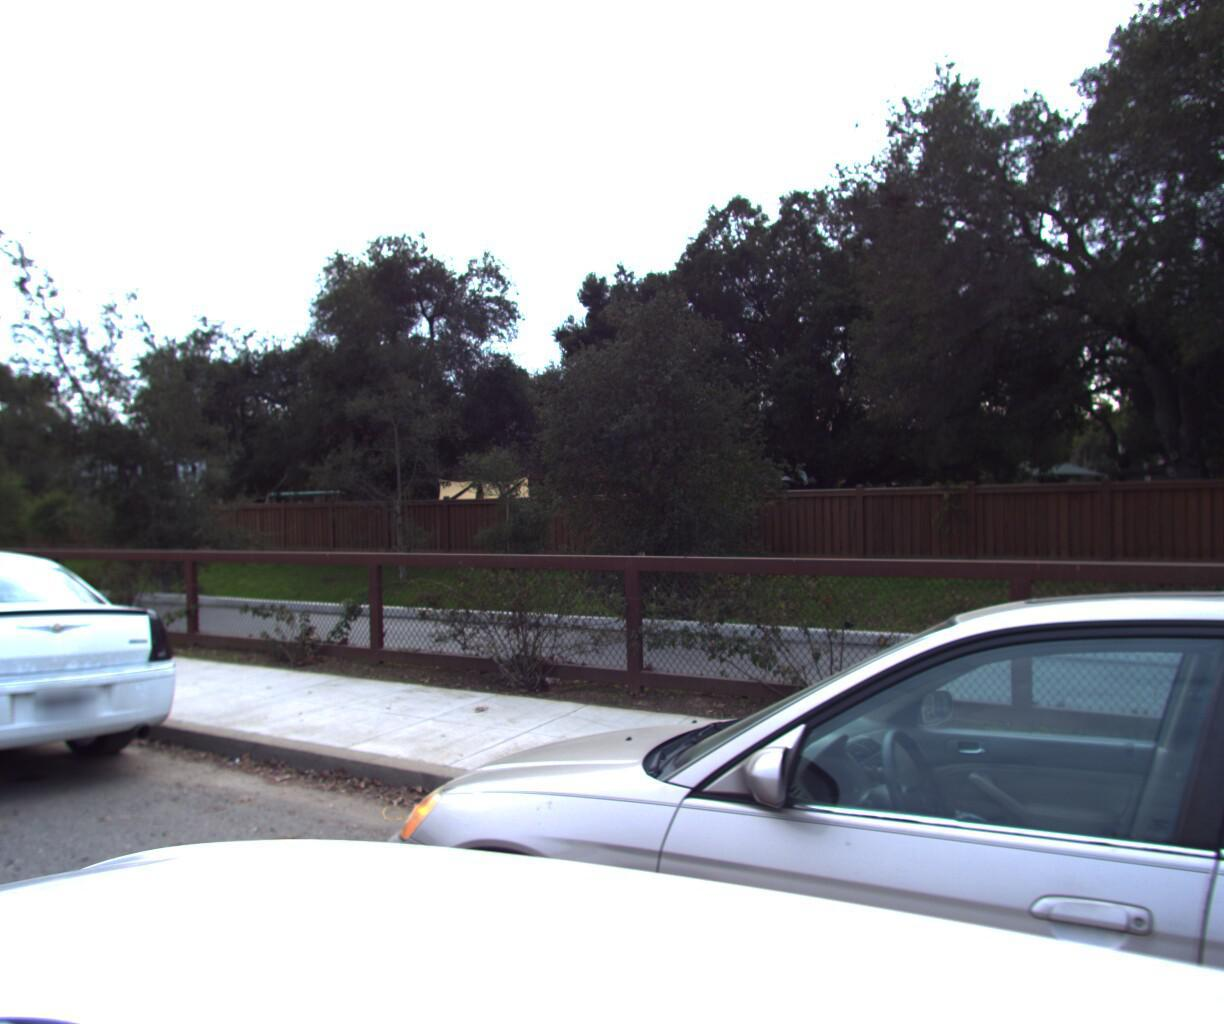car: (257, 552, 1224, 1024), (0, 532, 213, 856)
